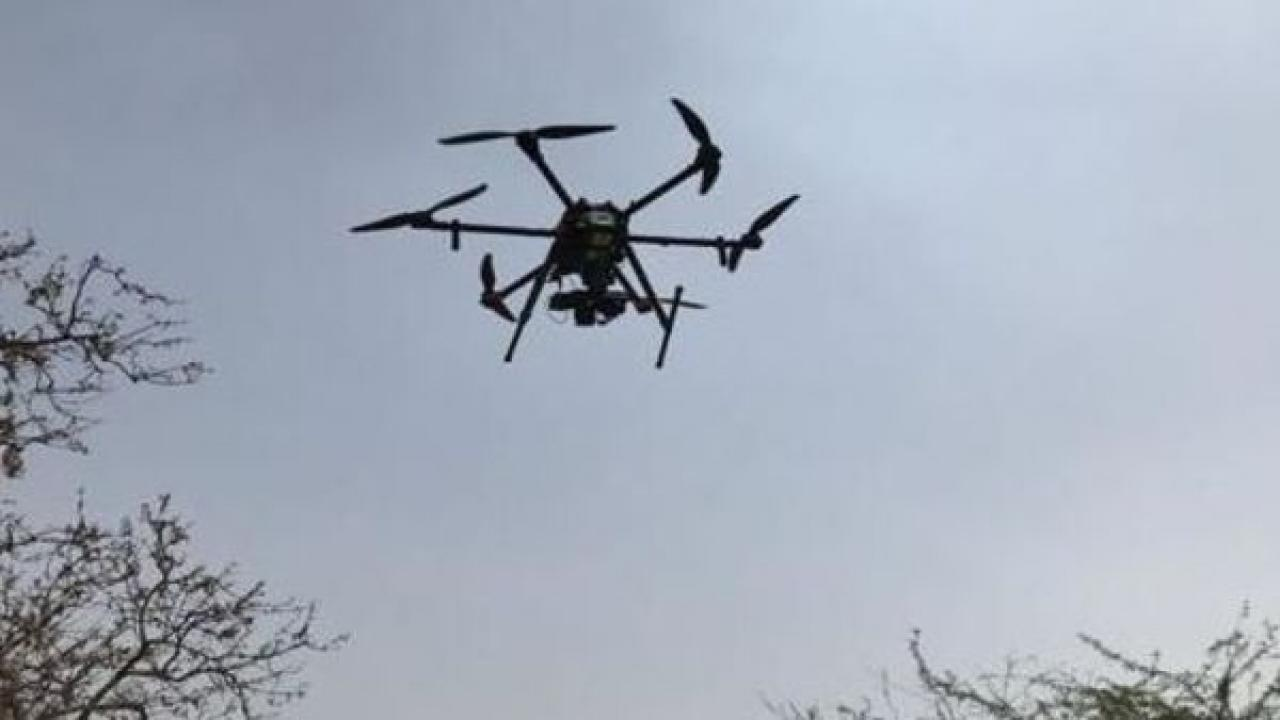Drone: (342, 88, 812, 378)
